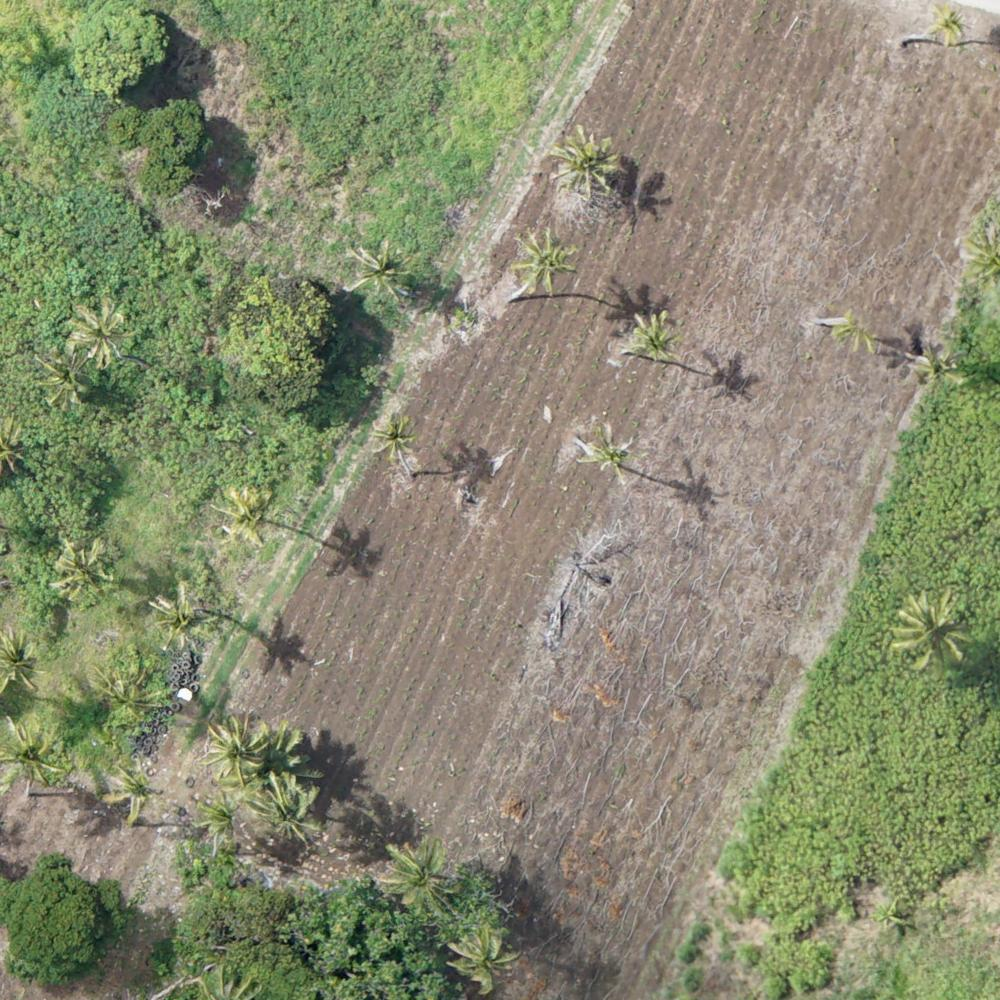Palm: (892, 585, 974, 679), (550, 128, 623, 201), (1, 716, 71, 792), (382, 839, 452, 912), (67, 297, 137, 367), (50, 535, 120, 601), (455, 924, 523, 990), (255, 777, 322, 843), (206, 717, 272, 782), (512, 228, 579, 291), (151, 582, 214, 648), (30, 347, 95, 410), (215, 480, 280, 543), (578, 421, 638, 484), (345, 241, 412, 297), (106, 759, 164, 821), (191, 791, 248, 850), (365, 412, 421, 469), (912, 339, 965, 394), (624, 311, 673, 363), (929, 4, 971, 52)
